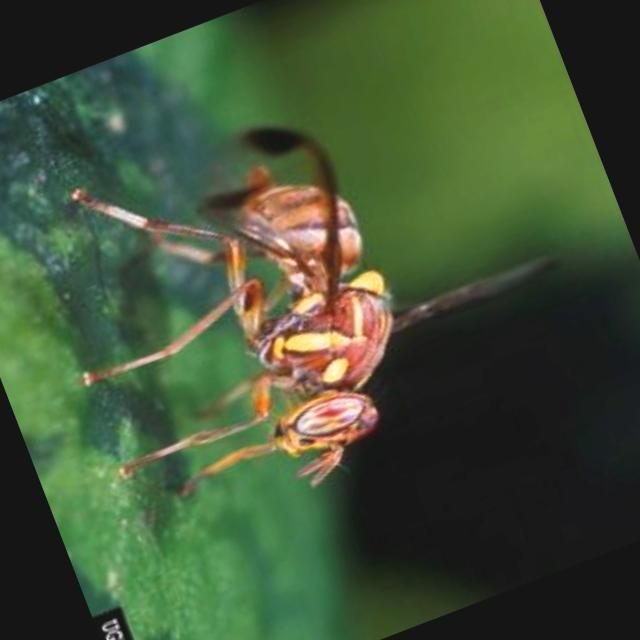melon fly: (0, 0, 615, 553)
